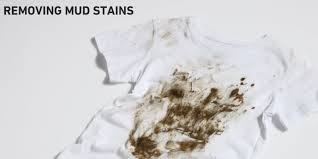earth: (165, 90, 222, 137), (131, 137, 161, 158), (165, 139, 206, 152), (225, 91, 244, 112), (238, 78, 255, 86)
